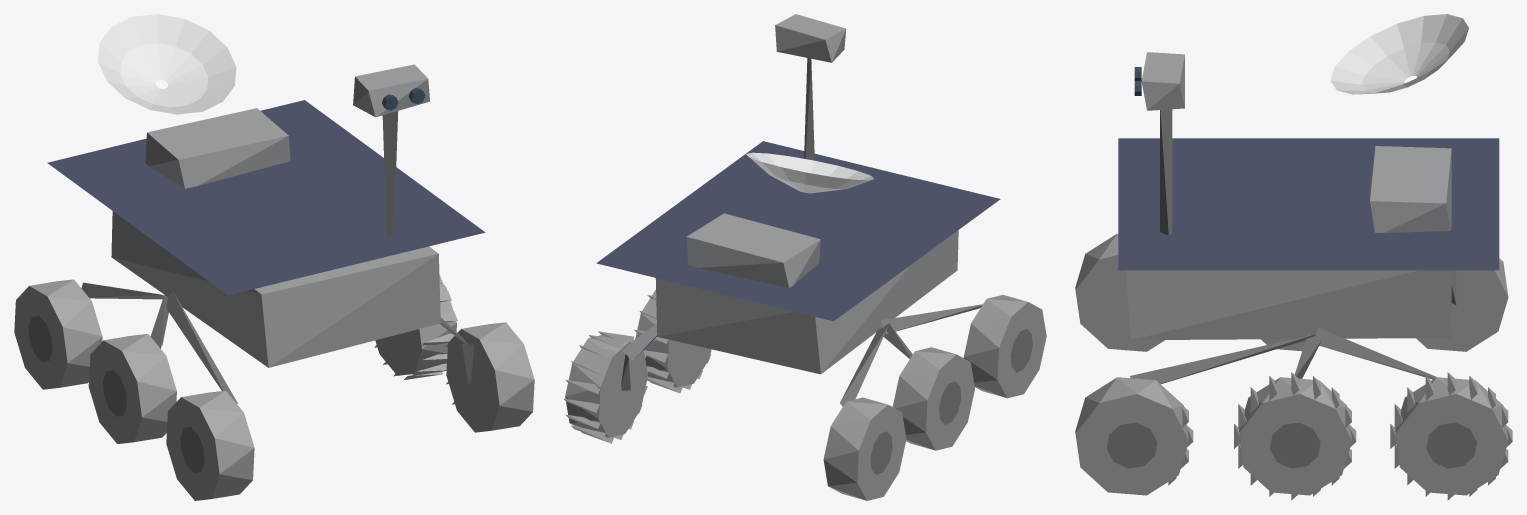
File: rover-lod1.glb
3 views of the same model, side by side, from view 1: azimuth 30°, elevation 25°; view 2: azimuth 150°, elevation 25°; view 3: azimuth 270°, elevation 25° (orthographic). The views are drawn at different scales.
Bounding box in the file's own units: 2.82 × 3.09 × 3.22.
